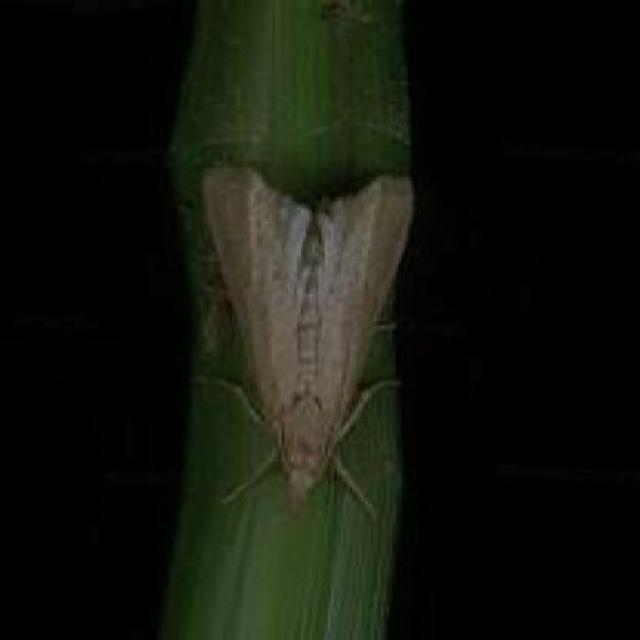stem-borer: (198, 165, 402, 520)
